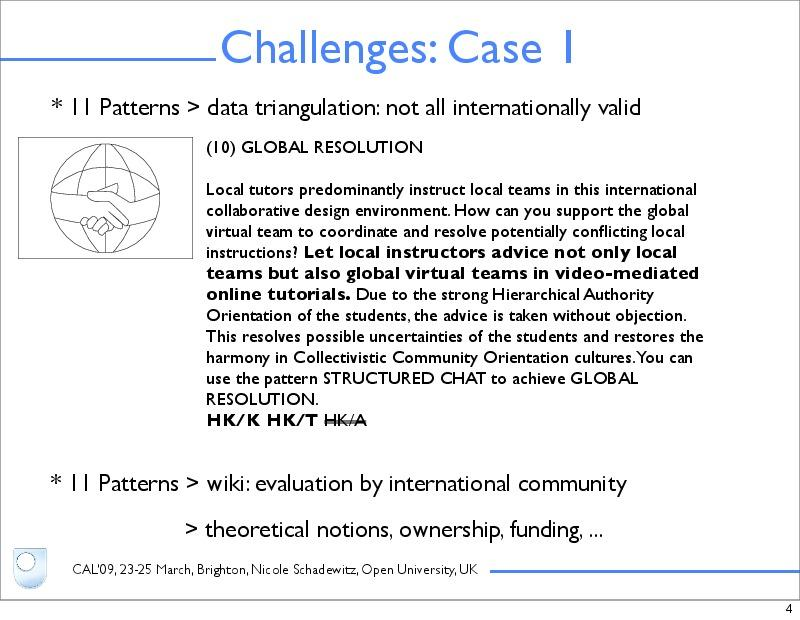paragraph: (44, 88, 737, 558)
title: (212, 16, 601, 81)
